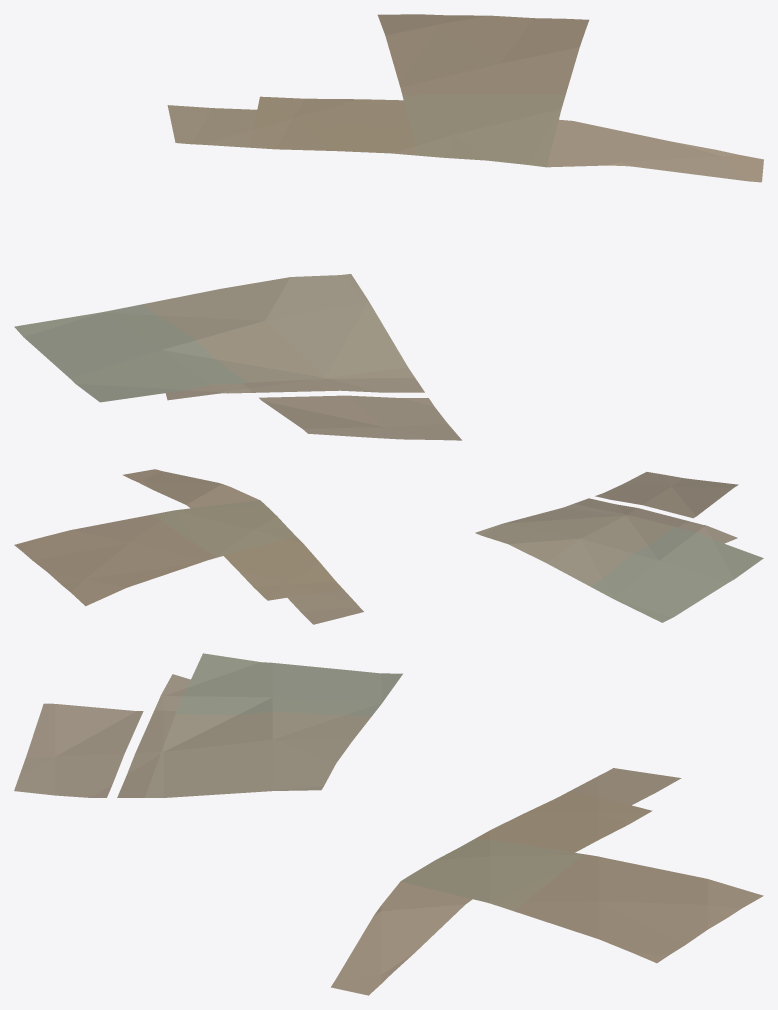
The model's file is farm_-3_5_soil.glb.
The picture shows the model from 3 angles, top to bottom: view 1: azimuth 30°, elevation 25°; view 2: azimuth 150°, elevation 25°; view 3: azimuth 270°, elevation 25°; orthographic projection. The views are drawn at different scales.
Parts seen in each view (by area): view 1: geometry_0; view 2: geometry_0; view 3: geometry_0.
Part boxes in pixels (x1,y1,x2,y2): geometry_0: (14, 14, 763, 440); geometry_0: (14, 469, 763, 624); geometry_0: (14, 653, 763, 995).
Bounding box in the file's own units: 583 × 41.14 × 552.
